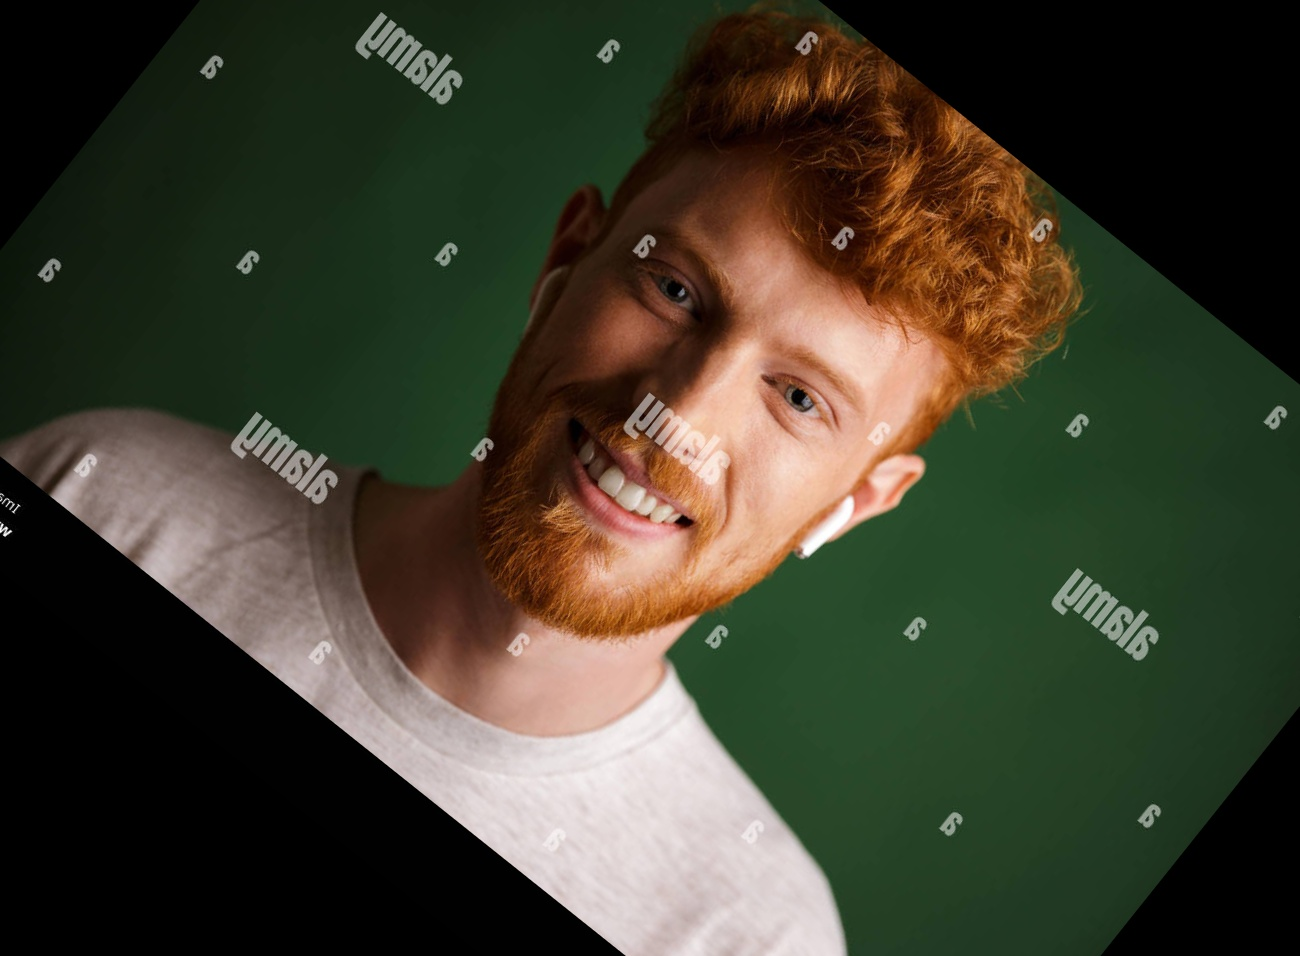earphone: (482, 176, 636, 345), (785, 428, 929, 586)
